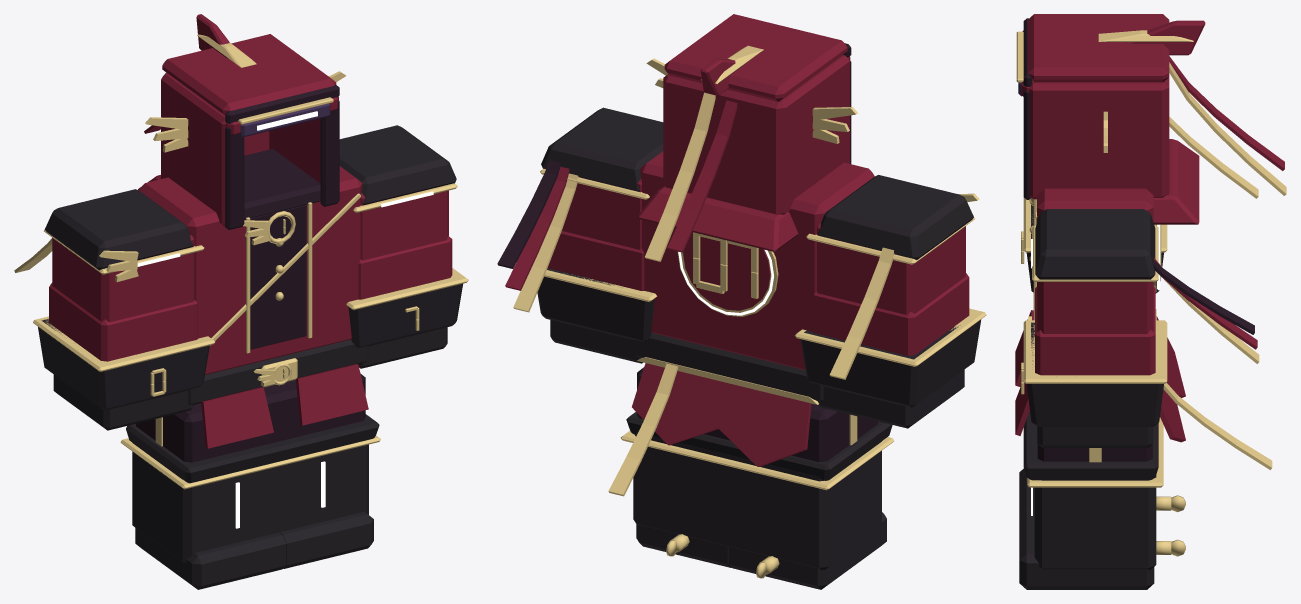
The model's file is Racer.fbx.
3 renders of one model, left to right at view 1: azimuth 30°, elevation 25°; view 2: azimuth 150°, elevation 25°; view 3: azimuth 270°, elevation 25°, orthographic. The views are drawn at different scales.
Parts seen in each view (by area): view 1: Armor_Racer_Helm_Silk_Common, Armor_Racer_Chest_Silk_Common, Armor_Racer_GreaveR_Leather_Common, Armor_Racer_Chest_Night_Common, Armor_Racer_GreaveL_Leather_Common, Armor_Racer_PauldronR_Leather_Common, Armor_Racer_PauldronR_Silk_Common, Armor_Racer_Belt_SilkSway_Common, Armor_Racer_BracerR_Leather_Common, Armor_Racer_PauldronL_Leather_Common, Armor_Racer_BracerR_Silk_Common, Armor_Racer_Helm_Night_Common (+19 smaller); view 2: Armor_Racer_Helm_Silk_Common, Armor_Racer_Chest_Silk_Common, Armor_Racer_GreaveR_Leather_Common, Armor_Racer_Belt_SilkSway_Common, Armor_Racer_GreaveL_Leather_Common, Armor_Racer_PauldronR_Leather_Common, Armor_Racer_BracerR_Leather_Common, Armor_Racer_PauldronR_Silk_Common, Armor_Racer_PauldronL_Leather_Common, Armor_Racer_BracerR_Silk_Common, Armor_Racer_BracerL_Leather_Common, Armor_Racer_Belt_Leather_Common (+23 smaller); view 3: Armor_Racer_Helm_Silk_Common, Armor_Racer_GreaveL_Leather_Common, Armor_Racer_PauldronL_Leather_Common, Armor_Racer_PauldronL_Silk_Common, Armor_Racer_BracerL_Leather_Common, Armor_Racer_BracerL_Silk_Common, Armor_Racer_BootL_Leather_Common, Armor_Racer_BracerL_Gold_Uncommon, Armor_Racer_Chest_Silk_Common, Armor_Racer_GloveL_Leather_Common, Armor_Racer_Belt_SilkSway_Common, Armor_Racer_ThighL_Night_Common (+15 smaller).
Part boxes in pixels (x1,y1,x2,y2): Armor_Racer_Helm_Silk_Common: (138, 14, 338, 226); Armor_Racer_Chest_Silk_Common: (139, 166, 362, 374); Armor_Racer_GreaveR_Leather_Common: (126, 424, 292, 563); Armor_Racer_Chest_Night_Common: (244, 149, 320, 349); Armor_Racer_GreaveL_Leather_Common: (274, 414, 379, 532); Armor_Racer_PauldronR_Leather_Common: (44, 189, 193, 270); Armor_Racer_PauldronR_Silk_Common: (52, 235, 194, 322); Armor_Racer_Belt_SilkSway_Common: (201, 364, 368, 448); Armor_Racer_BracerR_Leather_Common: (38, 319, 209, 410); Armor_Racer_PauldronL_Leather_Common: (339, 125, 456, 205); Armor_Racer_BracerR_Silk_Common: (49, 283, 197, 361); Armor_Racer_Helm_Night_Common: (225, 85, 339, 229); Armor_Racer_Helm_Silk_Common: (638, 14, 850, 251); Armor_Racer_Chest_Silk_Common: (640, 151, 874, 369); Armor_Racer_GreaveR_Leather_Common: (718, 421, 892, 570); Armor_Racer_Belt_SilkSway_Common: (632, 363, 811, 466); Armor_Racer_GreaveL_Leather_Common: (626, 412, 735, 546); Armor_Racer_PauldronR_Leather_Common: (817, 175, 973, 259); Armor_Racer_BracerR_Leather_Common: (800, 319, 981, 407); Armor_Racer_PauldronR_Silk_Common: (817, 223, 965, 314); Armor_Racer_PauldronL_Leather_Common: (541, 107, 663, 191); Armor_Racer_BracerR_Silk_Common: (813, 273, 969, 355); Armor_Racer_BracerL_Leather_Common: (537, 268, 654, 341); Armor_Racer_Belt_Leather_Common: (634, 333, 823, 401); Armor_Racer_Helm_Silk_Common: (1021, 14, 1205, 224); Armor_Racer_GreaveL_Leather_Common: (1023, 411, 1158, 569); Armor_Racer_PauldronL_Leather_Common: (1035, 209, 1155, 279); Armor_Racer_PauldronL_Silk_Common: (1037, 282, 1153, 333); Armor_Racer_BracerL_Leather_Common: (1026, 322, 1163, 426); Armor_Racer_BracerL_Silk_Common: (1035, 286, 1155, 375); Armor_Racer_BootL_Leather_Common: (1019, 510, 1154, 589); Armor_Racer_BracerL_Gold_Uncommon: (1023, 320, 1167, 383); Armor_Racer_Chest_Silk_Common: (1037, 188, 1153, 285); Armor_Racer_GloveL_Leather_Common: (1037, 427, 1153, 447); Armor_Racer_Belt_SilkSway_Common: (1015, 310, 1185, 442); Armor_Racer_ThighL_Night_Common: (1037, 444, 1152, 461).
Bounding box in the file's own units: 430 × 548 × 257.
